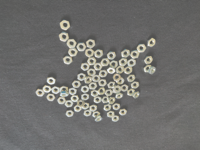nut: (60, 19, 71, 30), (63, 55, 74, 65), (59, 32, 70, 42), (86, 38, 96, 49), (147, 37, 157, 48), (67, 38, 77, 49), (77, 42, 87, 52), (94, 49, 104, 59), (107, 51, 117, 60), (85, 49, 95, 58), (137, 43, 146, 53), (47, 77, 56, 86), (72, 80, 81, 89), (81, 63, 90, 72), (99, 79, 108, 88), (128, 59, 137, 68), (144, 56, 153, 65), (69, 48, 78, 57), (52, 86, 61, 95), (81, 85, 90, 94), (144, 64, 153, 73), (88, 57, 97, 66), (94, 62, 103, 71), (101, 58, 110, 67), (77, 99, 86, 108), (116, 65, 125, 74), (131, 50, 140, 59), (46, 94, 56, 102), (121, 50, 131, 58), (87, 69, 97, 77), (68, 88, 78, 96), (36, 89, 45, 97), (91, 90, 100, 98), (84, 110, 93, 118), (99, 70, 108, 78), (127, 75, 136, 83), (121, 84, 129, 93), (113, 74, 122, 82), (43, 85, 52, 93), (71, 95, 80, 103), (149, 66, 157, 75), (77, 73, 86, 81), (120, 58, 128, 67), (89, 82, 98, 90), (127, 89, 136, 97), (120, 109, 128, 117), (102, 96, 110, 104), (66, 110, 74, 118), (58, 97, 66, 105), (110, 60, 118, 68), (74, 105, 82, 113), (112, 115, 120, 123), (104, 104, 112, 112), (113, 103, 121, 111), (85, 76, 93, 84), (108, 81, 116, 89), (81, 94, 90, 101), (94, 97, 102, 104), (65, 101, 73, 108), (82, 103, 90, 110), (90, 105, 98, 112), (109, 97, 116, 105), (105, 90, 113, 97), (98, 88, 106, 95), (133, 91, 140, 99), (132, 82, 140, 89), (114, 86, 121, 94), (117, 78, 125, 85), (107, 68, 116, 74), (60, 86, 69, 92), (93, 75, 100, 82), (107, 112, 115, 118), (95, 116, 103, 122), (93, 112, 101, 118), (116, 93, 124, 99), (60, 92, 69, 97)
